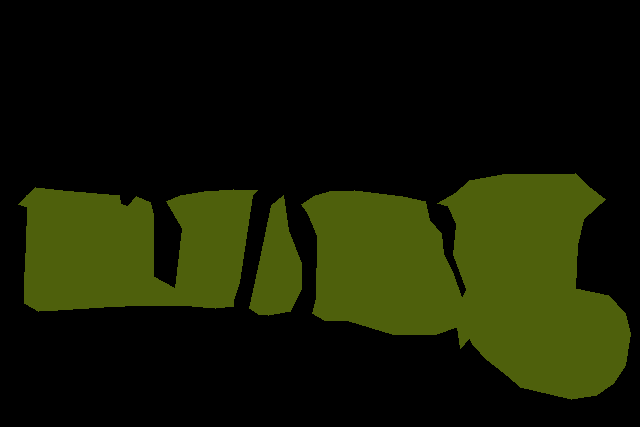Train: (18, 173, 631, 399), (249, 190, 463, 334)
